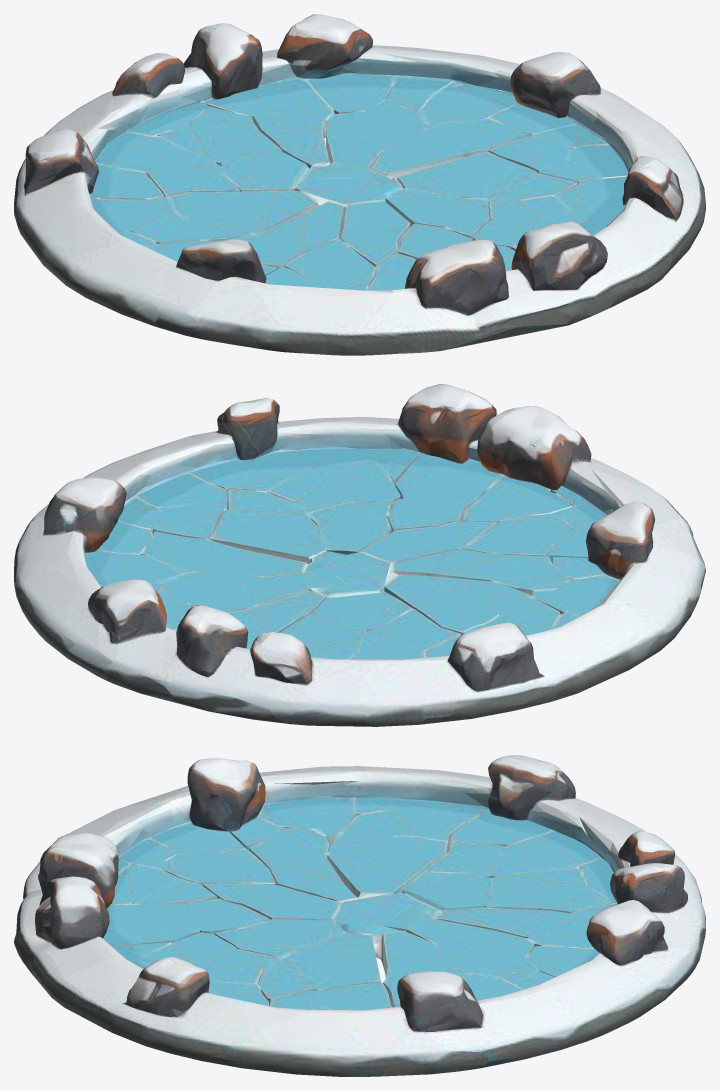
The model's file is frozen_pond.glb.
3 views of the same model, one above another, from view 1: azimuth 30°, elevation 25°; view 2: azimuth 150°, elevation 25°; view 3: azimuth 270°, elevation 25° (orthographic).
Bounding box in the file's own units: 1.9 × 0.2253 × 1.89.
Materials: 1 (1 with a texture image).
